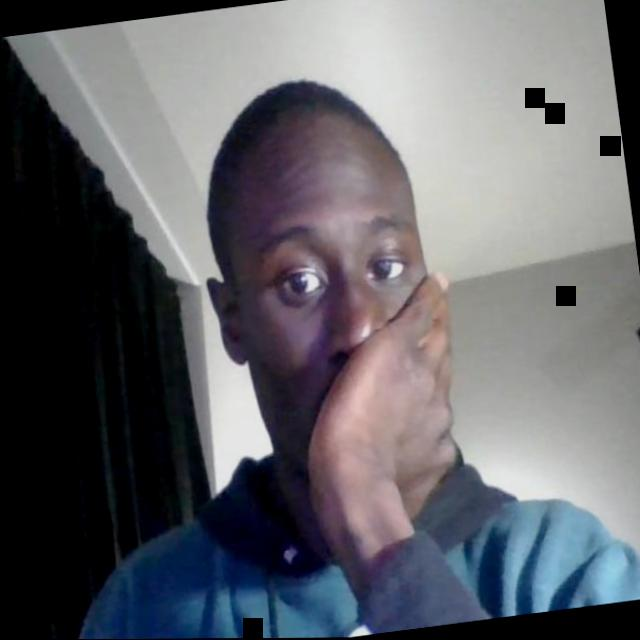NO-Mask: (222, 194, 452, 499)
